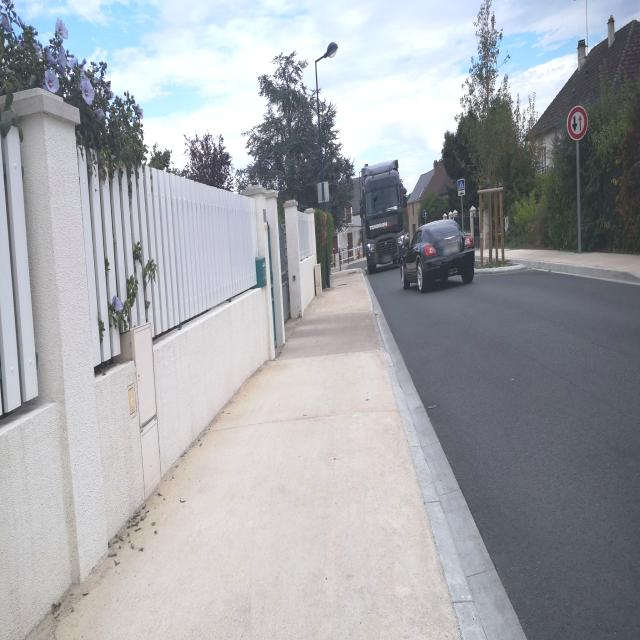car: (402, 218, 476, 292)
